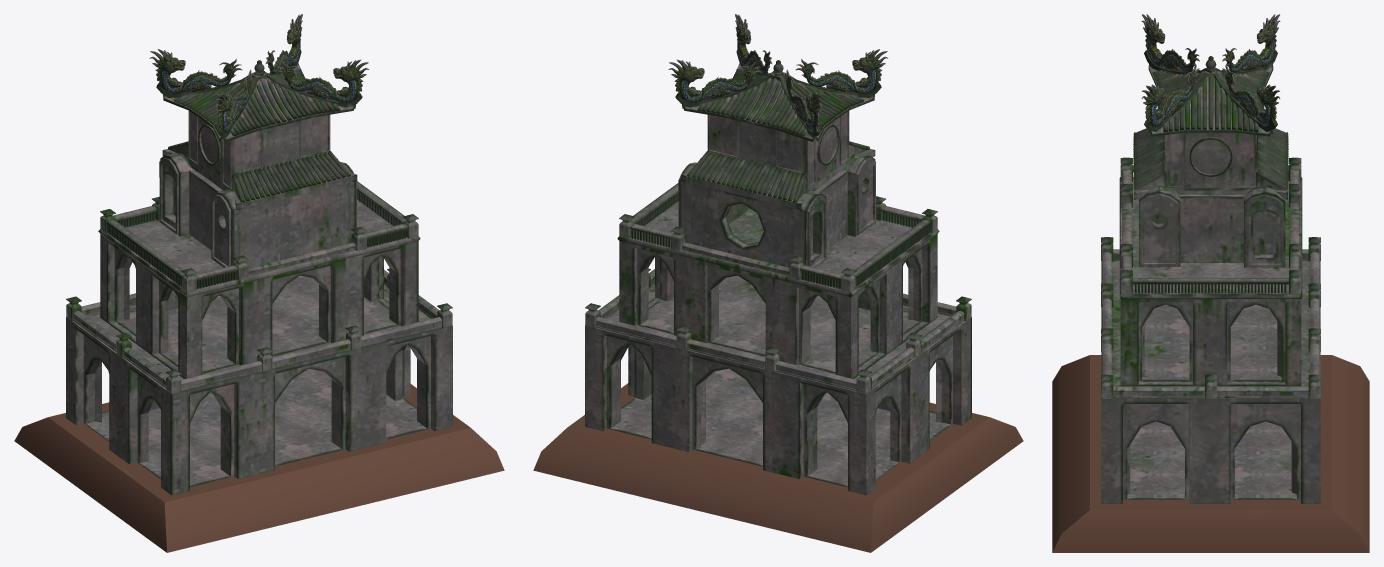
The model's file is thap-rua.glb.
3 renders of one model, left to right at view 1: azimuth 30°, elevation 25°; view 2: azimuth 150°, elevation 25°; view 3: azimuth 270°, elevation 25°, orthographic. The views are drawn at different scales.
Parts seen in each view (by area): view 1: Object_5, Object_2; view 2: Object_5, Object_2; view 3: Object_5, Object_2.
Part boxes in pixels (left/top/right/bottom): Object_5: left=14, top=49, right=504, bottom=552; Object_2: left=149, top=14, right=369, bottom=132; Object_5: left=533, top=49, right=1023, bottom=552; Object_2: left=668, top=14, right=888, bottom=132; Object_5: left=1052, top=50, right=1369, bottom=552; Object_2: left=1141, top=14, right=1280, bottom=126.
Bounding box in the file's own units: 34.69 × 39.44 × 27.2.
2 materials, 2 textured.
